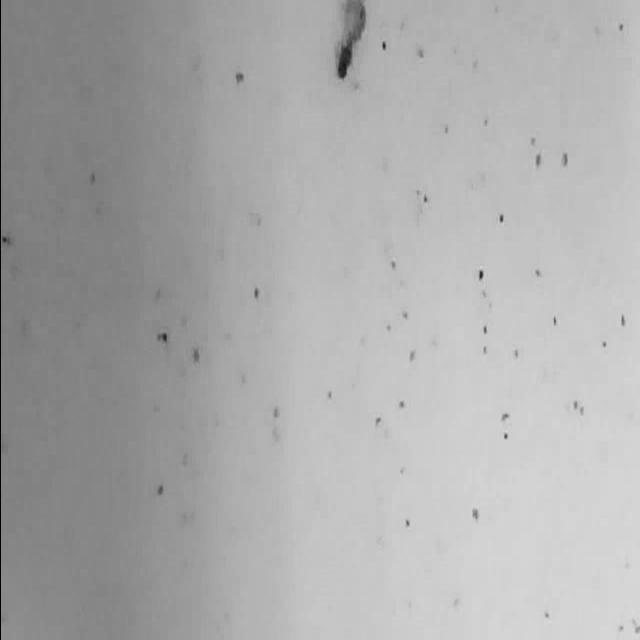larvas: (334, 0, 366, 78)
